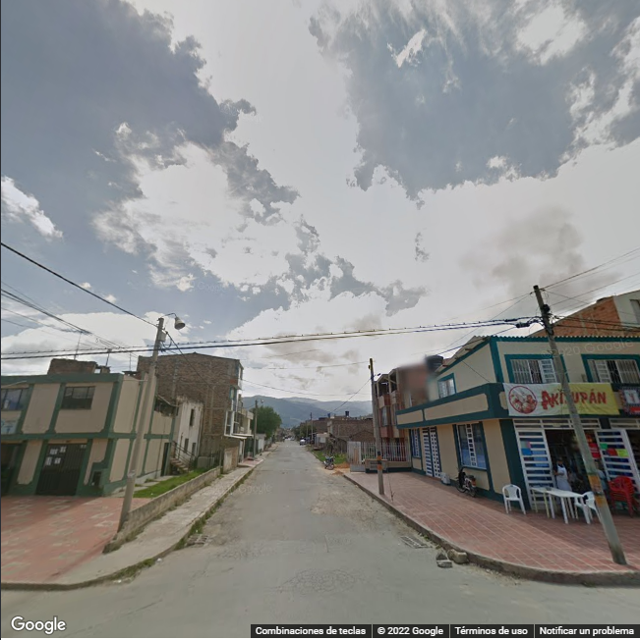D20: (279, 567, 357, 594)
